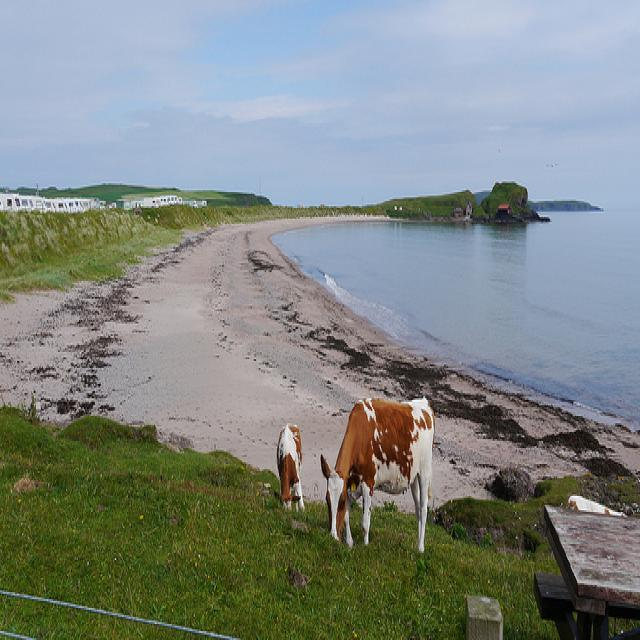cow: (319, 391, 435, 551), (273, 416, 306, 517)
